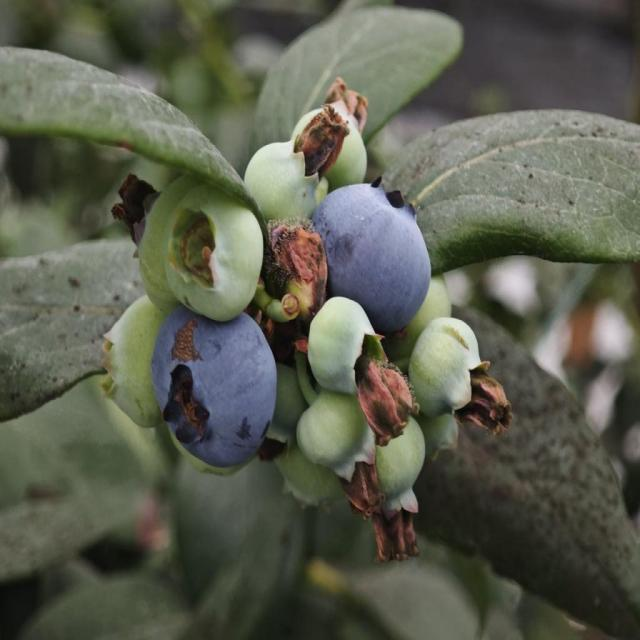RipeBlueBerry: (150, 301, 282, 472), (312, 174, 432, 334)
UnripeBlueBerry: (162, 185, 264, 323), (307, 292, 396, 401), (408, 316, 493, 426)
